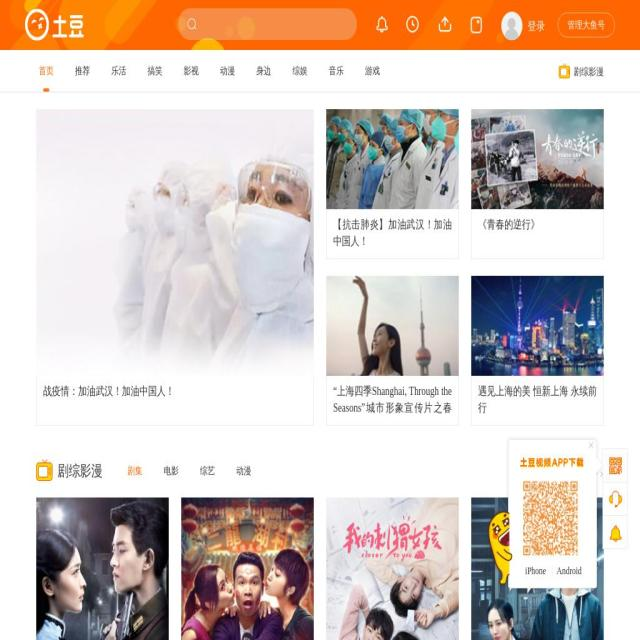button: (36, 497, 168, 640), (181, 497, 313, 640), (326, 497, 458, 640), (471, 497, 603, 640), (36, 50, 56, 92), (72, 50, 92, 92), (109, 50, 129, 92), (145, 50, 165, 92), (181, 50, 201, 92), (218, 50, 238, 92), (254, 50, 274, 92), (290, 50, 310, 92), (326, 50, 346, 92), (362, 50, 382, 92), (558, 64, 604, 78), (552, 565, 586, 578), (520, 565, 552, 578), (236, 460, 252, 482), (200, 460, 215, 482), (128, 460, 142, 482), (164, 460, 178, 482), (583, 467, 604, 481)
field: (178, 8, 357, 40)
heading: (58, 460, 102, 482)
image: (36, 109, 314, 376), (0, 15, 199, 274), (36, 497, 168, 640), (181, 497, 313, 640), (326, 497, 458, 640), (471, 497, 603, 640), (410, 263, 467, 539), (326, 109, 459, 209), (471, 109, 604, 209), (326, 276, 459, 376), (471, 276, 604, 376), (508, 509, 598, 588), (519, 477, 582, 561), (46, 14, 103, 64), (25, 8, 106, 42), (179, 27, 220, 82), (379, 8, 417, 59), (99, 7, 128, 58), (3, 0, 30, 48), (22, 0, 46, 42), (106, 0, 130, 41), (386, 0, 404, 46), (400, 8, 425, 40), (520, 457, 584, 469), (234, 12, 252, 36), (172, 13, 185, 29), (470, 17, 482, 33), (596, 451, 602, 476), (223, 23, 233, 36), (494, 30, 502, 42)
link: (333, 385, 452, 431), (333, 218, 452, 248), (478, 385, 597, 414), (44, 385, 174, 397), (478, 218, 540, 231), (567, 19, 605, 31)
text: (432, 8, 458, 40), (603, 482, 627, 516), (603, 516, 627, 549), (370, 8, 394, 34), (583, 435, 599, 456), (524, 19, 545, 33), (583, 468, 598, 479), (598, 465, 604, 483)
